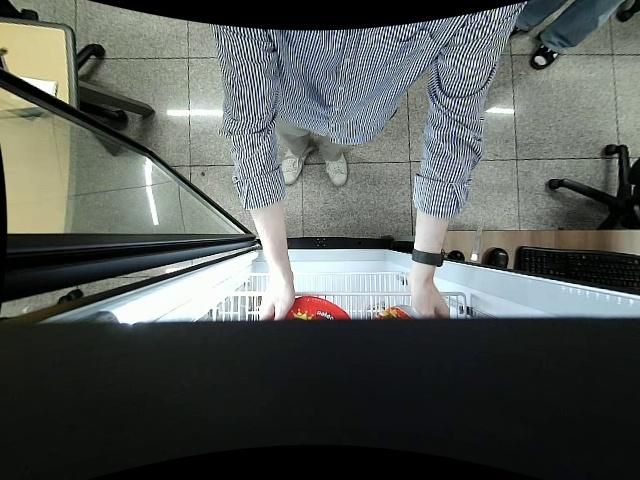00_hand: (259, 276, 296, 321), (411, 283, 451, 323)
10_wangTtukkeong: (275, 296, 350, 323)
